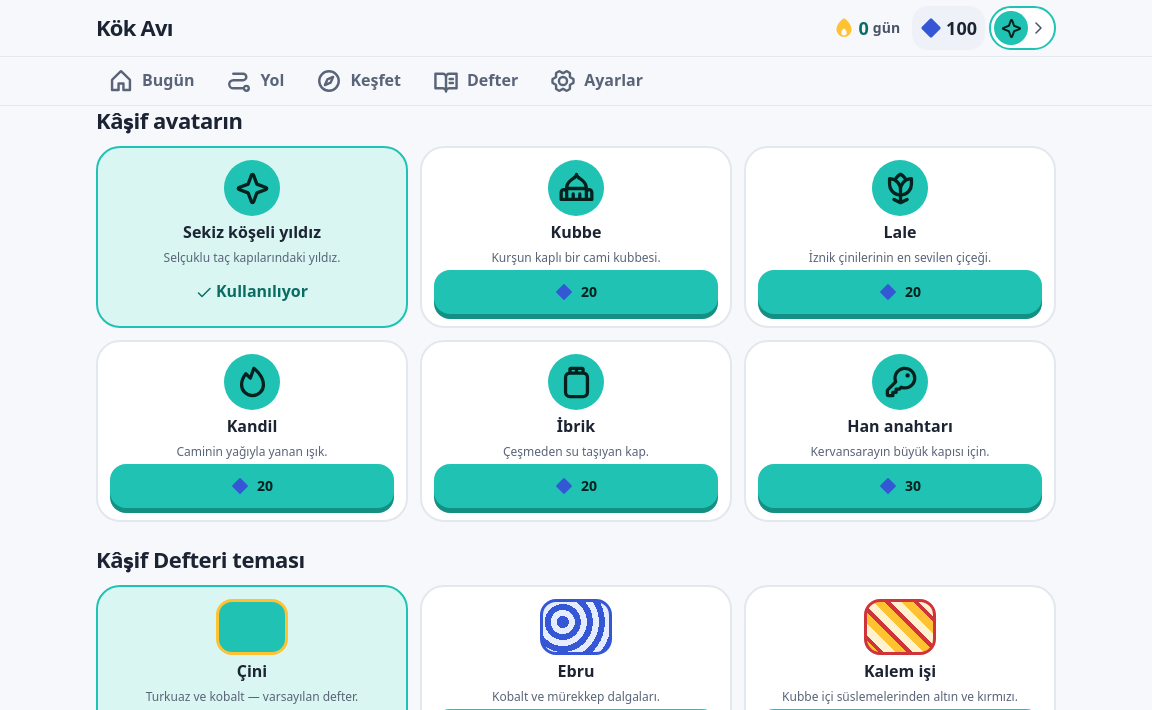
Scenario: veli kapısı › varsayılanda sorulmaz: kazanılan elmas doğrudan harcanır
(page scrolled)
expect the heading "Vakıf Çarşısı" is shown: met, box [96,24,226,54]
Click the button named "Kubbe: 20 elmas". click: coordinates (576, 292)
box: [434,270,718,314]
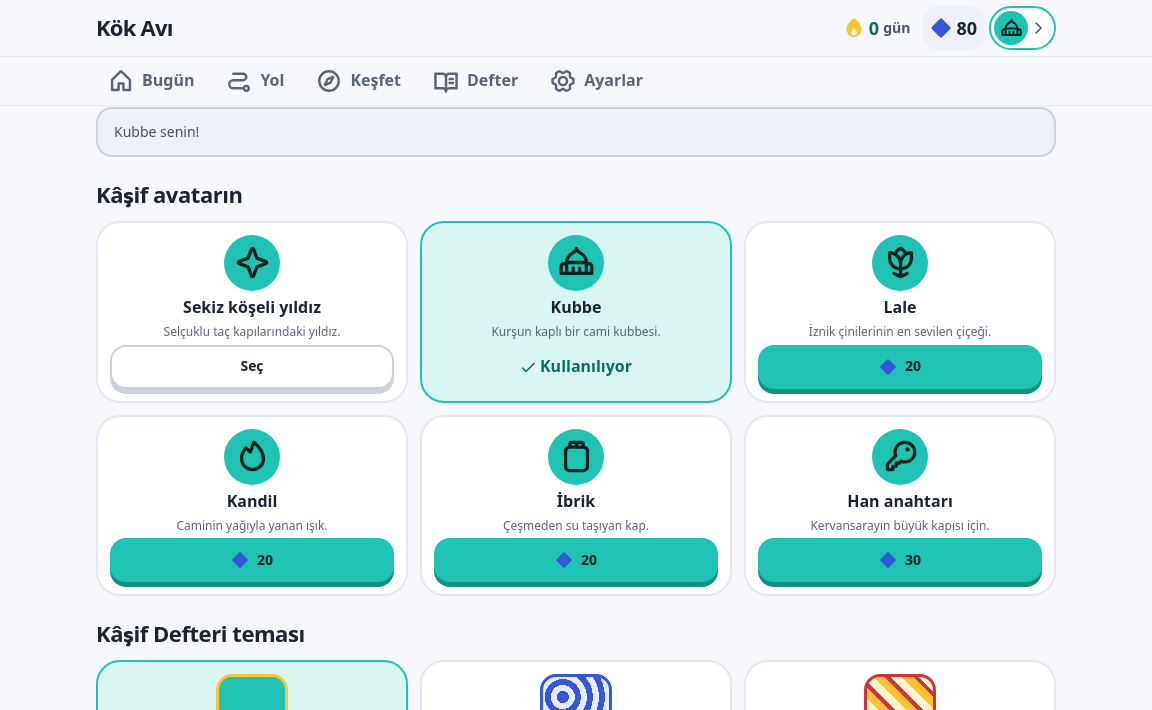
expect the element named "80 elmasın var" is shown: met, box [973,28,1056,83]
